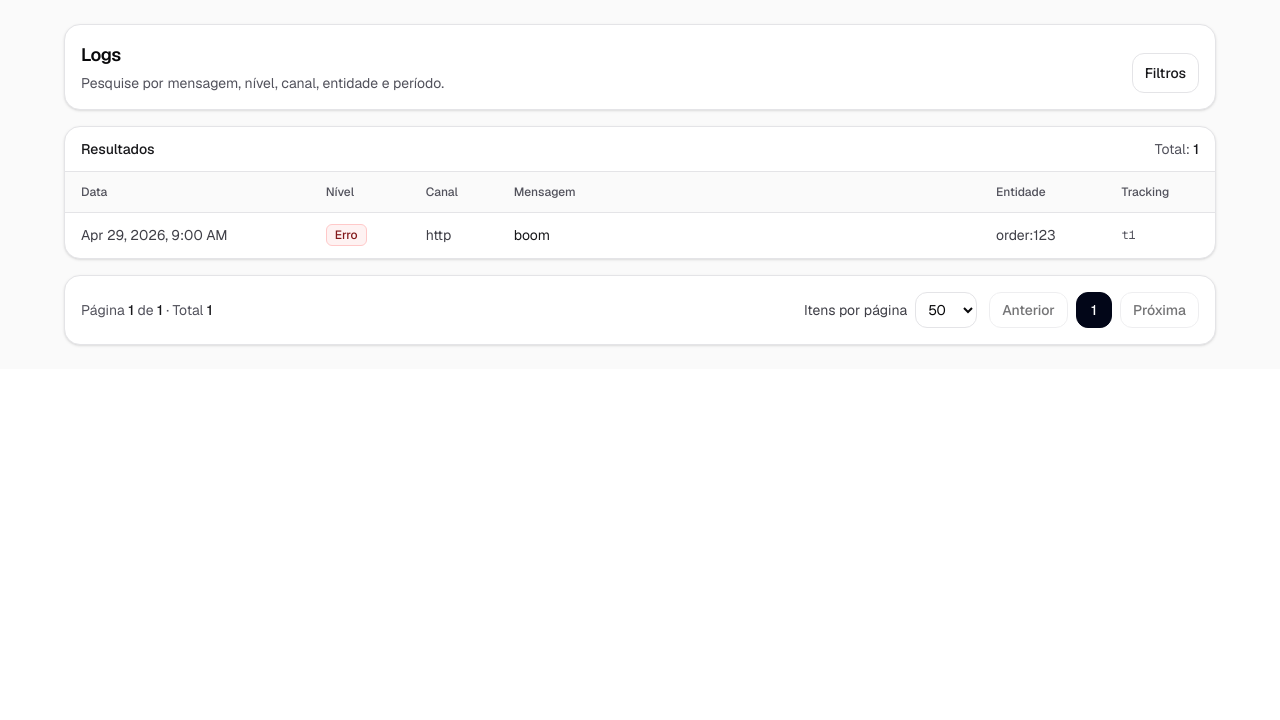
Test case: LogsPage (UI) › deve abrir modal com detalhes ao clicar na linha e fechar
Expected: the text "boom" is shown, [514,226,550,244]
Click the row named "Log t1" at (154, 235), box [65,212,1215,258]
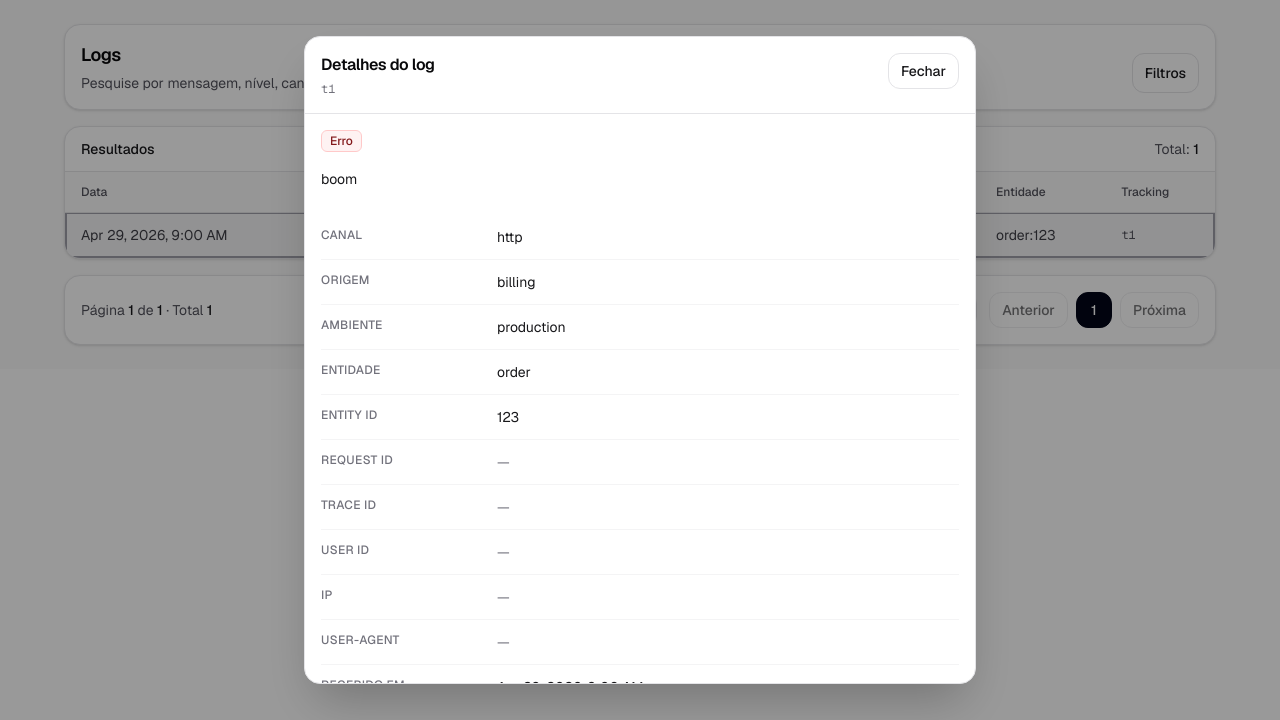
Result: the dialog "Detalhes do log" is shown
Result: the text "boom" is shown at [321,170,357,188]
Click the button "Fechar" at (923, 71), box [888,53,959,89]
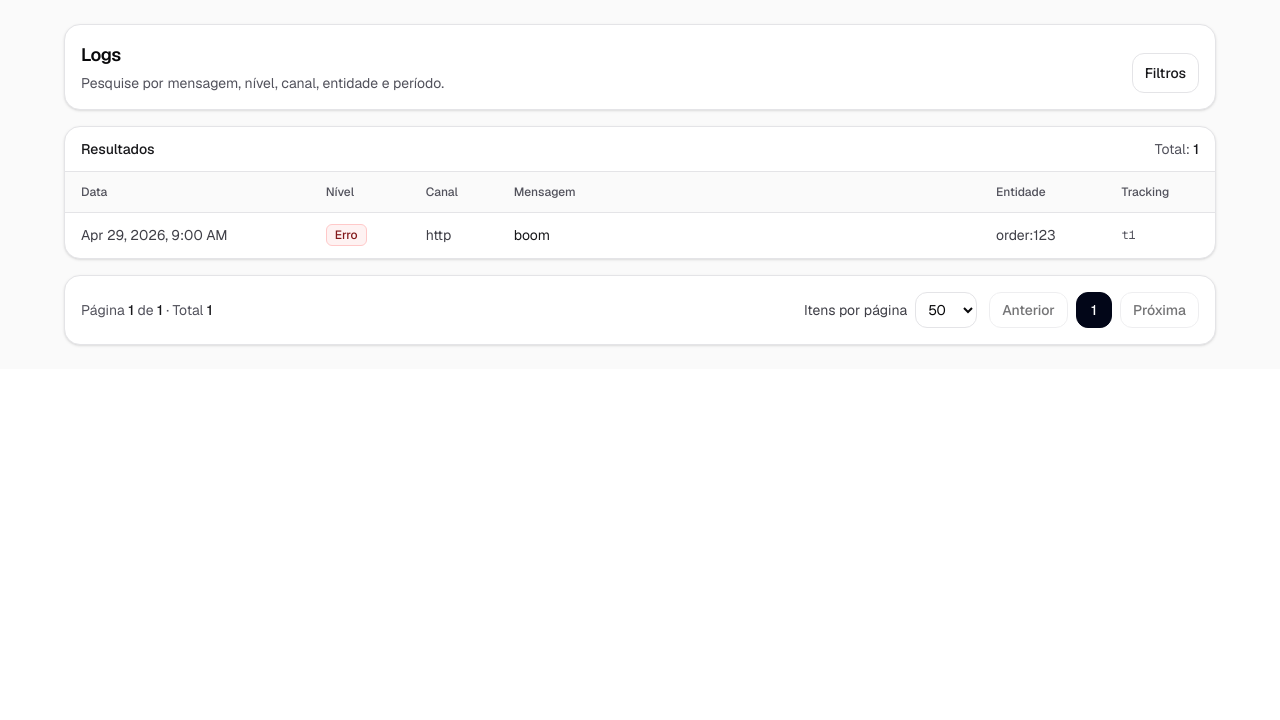
Result: the heading "Detalhes do log" is gone
